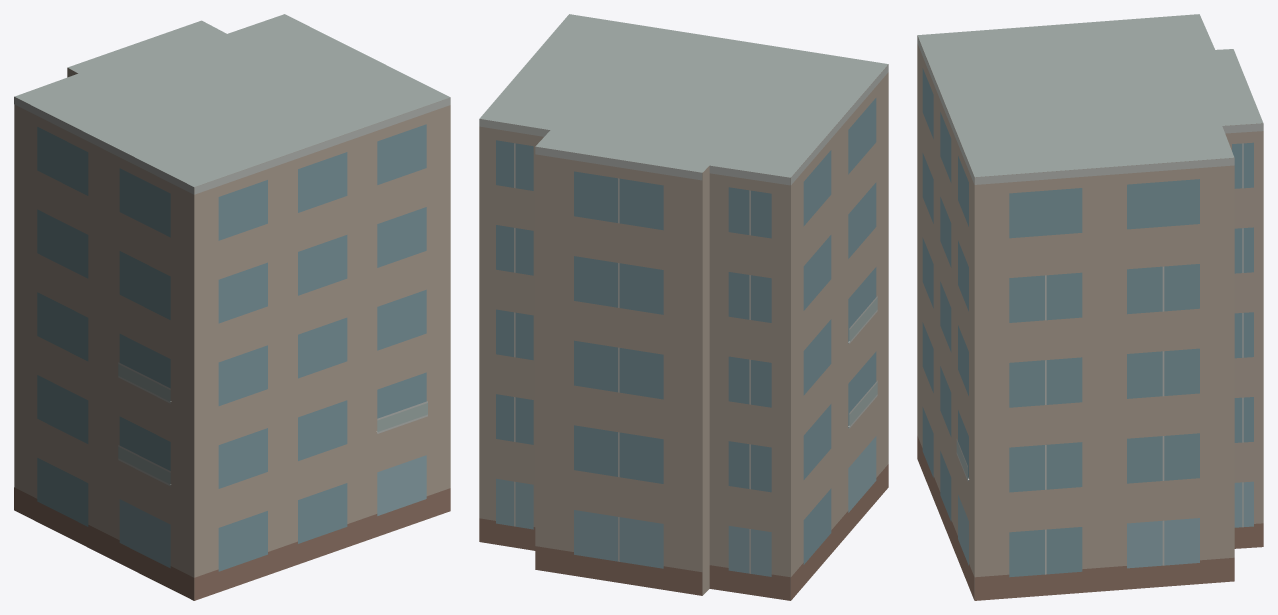
The model's file is survey-upis-32706992.glb.
3 renders of one model, left to right at view 1: azimuth 30°, elevation 25°; view 2: azimuth 150°, elevation 25°; view 3: azimuth 270°, elevation 25°, orthographic. The views are drawn at different scales.
Visible parts, largest first — view 1: survey-upis-32706992.tmp; view 2: survey-upis-32706992.tmp; view 3: survey-upis-32706992.tmp.
Part boxes in pixels (<box>): survey-upis-32706992.tmp: <box>14,14,450,600</box>; survey-upis-32706992.tmp: <box>479,14,888,600</box>; survey-upis-32706992.tmp: <box>917,14,1263,600</box>.
Size of the model in its own units: 11 by 13.3 by 9.86.
